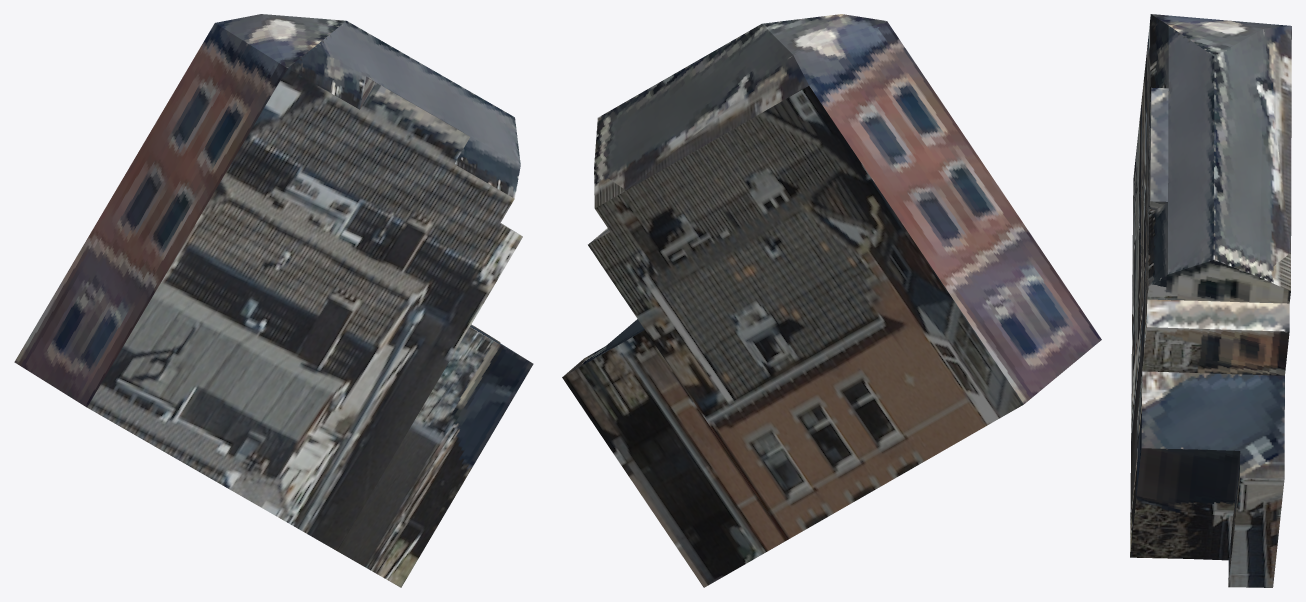
The picture shows the model from 3 angles, left to right: view 1: azimuth 30°, elevation 25°; view 2: azimuth 150°, elevation 25°; view 3: azimuth 270°, elevation 25°; orthographic projection. The views are drawn at different scales.
Parts seen in each view (by area): view 1: BAG_0599100000671699 (×4); view 2: BAG_0599100000671699 (×4); view 3: BAG_0599100000671699 (×7).
Part boxes in pixels (x1,y1,x2,y2): BAG_0599100000671699 (×4): (14,14,533,587); BAG_0599100000671699 (×4): (562,14,1101,587); BAG_0599100000671699 (×7): (1130,14,1291,587).
Bounding box in the file's own units: 18.11 × 20.76 × 5.81.
Materials: 7 (7 with a texture image).
